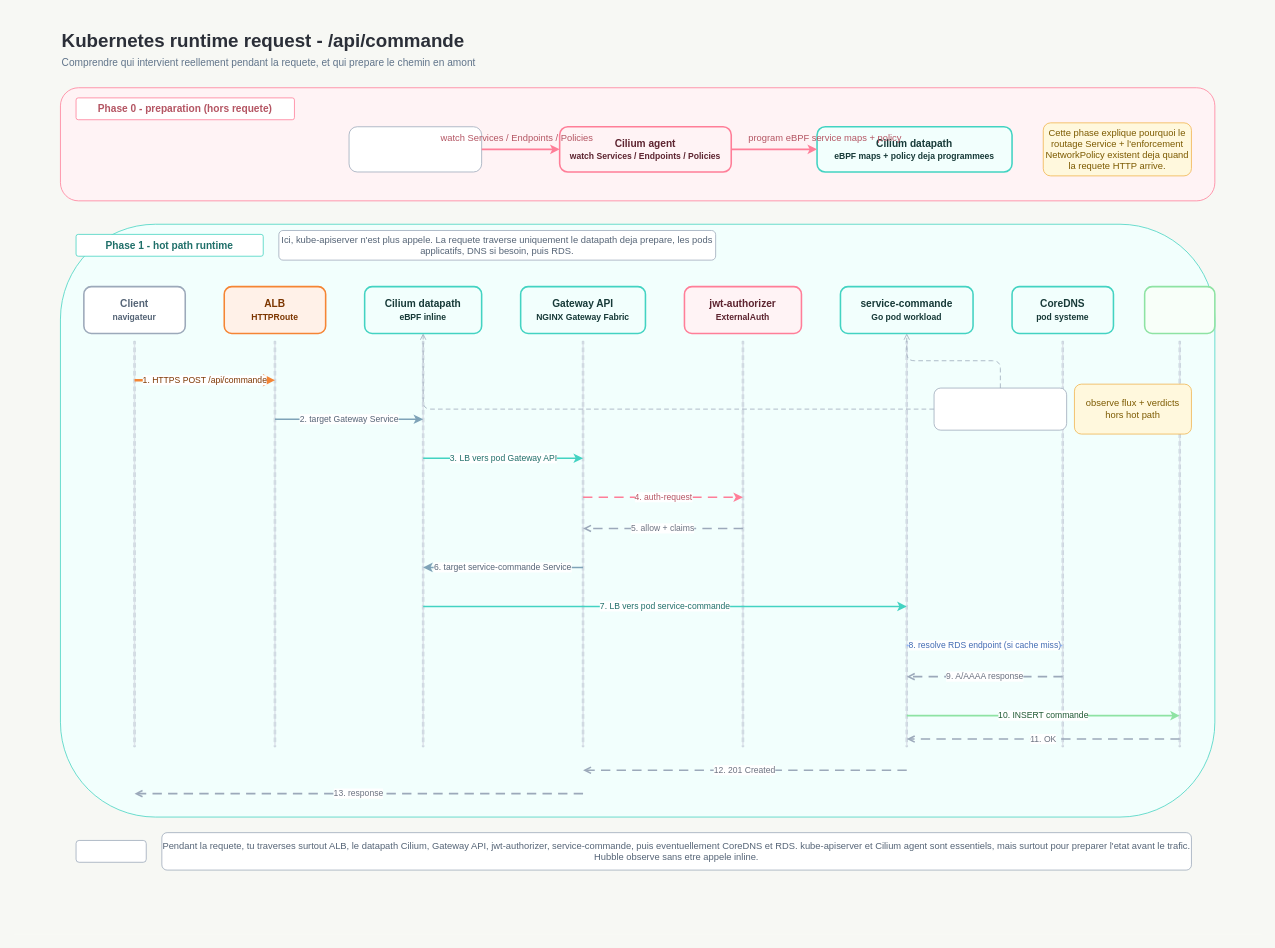
Image size: 1275x948. Some labels were removed from this diagram. The shapes that lost their labels are listed below. From the top down, each one's centre as x and y in pixels, then its label:
At [415,149]: "kube-apiserver etat desire du cluster".
At [1179,309]: "RDS PostgreSQL".
At [1000,408]: "Hubble relay observe seulement".
At [110,851]: "Lecture".
